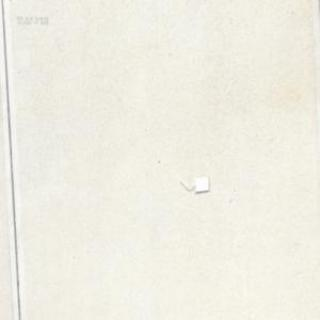LuggageTagtrack_idkeyframe: (177, 174, 209, 192)
